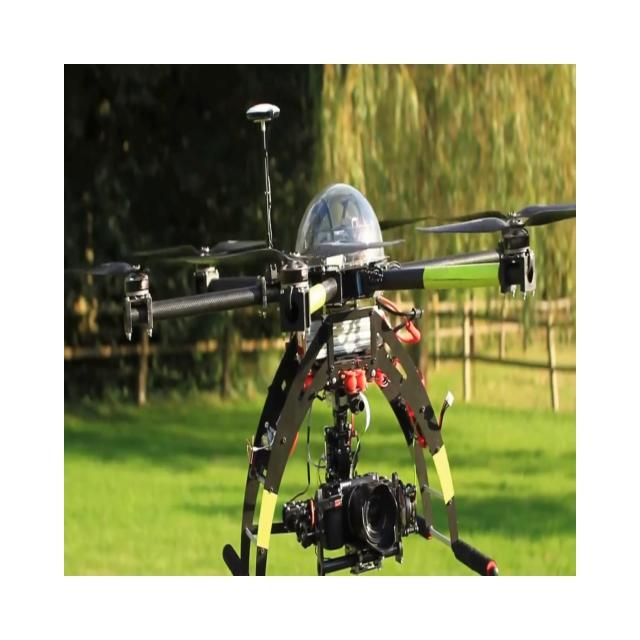drone: (69, 100, 575, 576)
